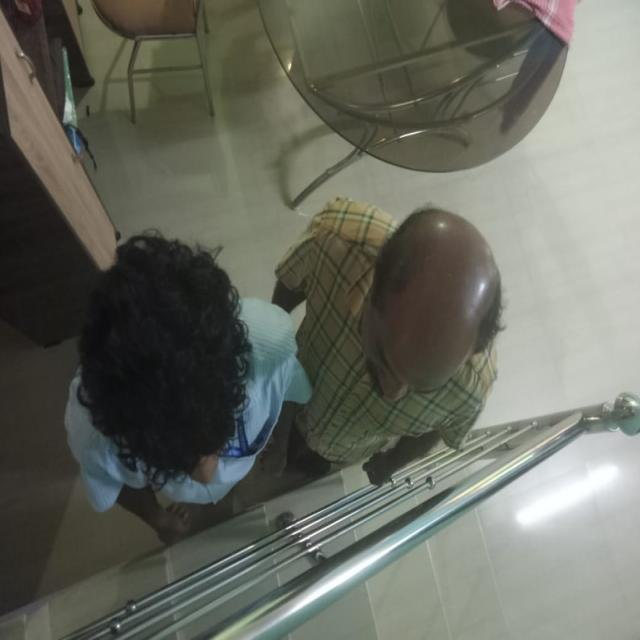humans: (60, 224, 300, 526), (273, 190, 505, 480)
